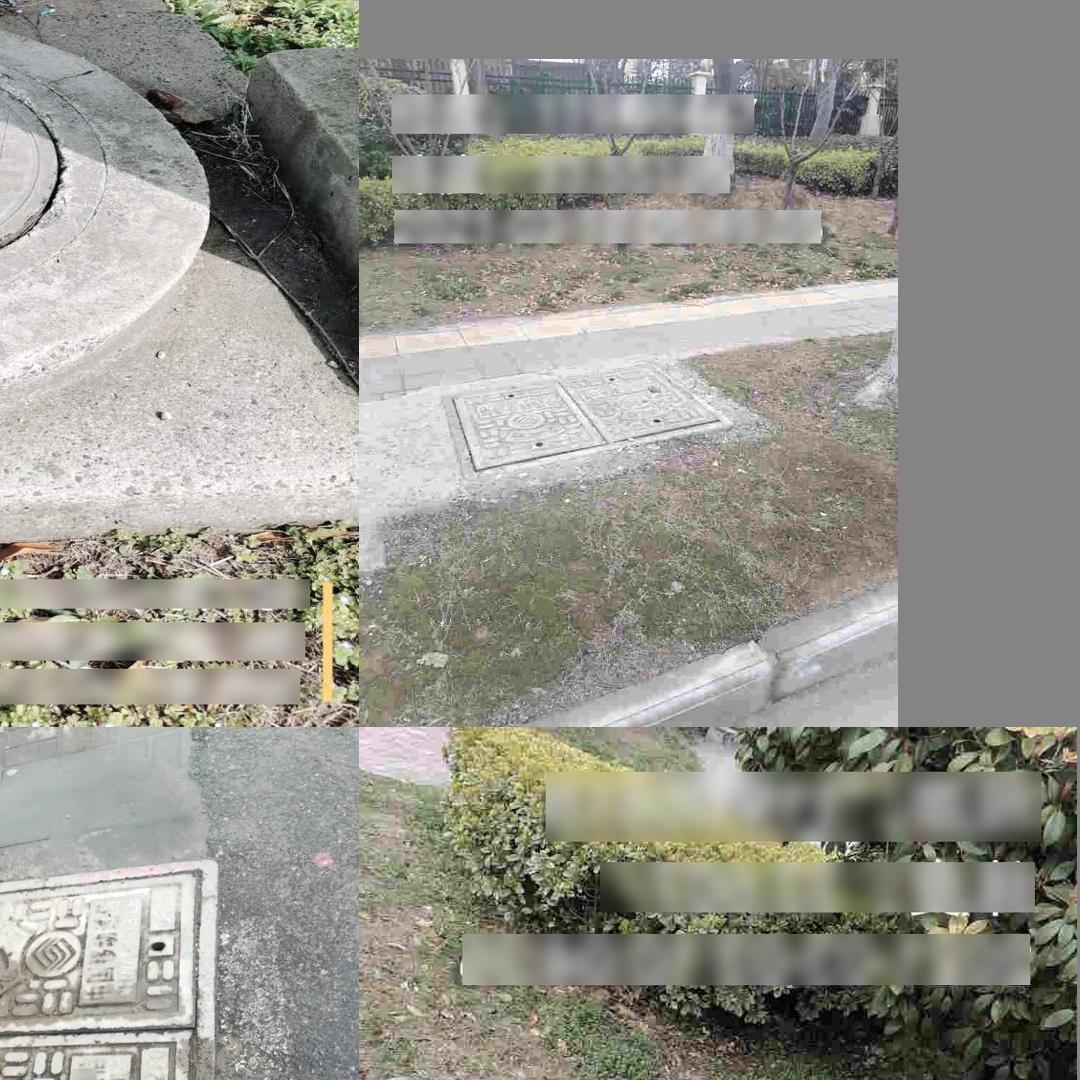good: (0, 858, 219, 1080), (444, 358, 736, 478), (0, 27, 104, 322)
